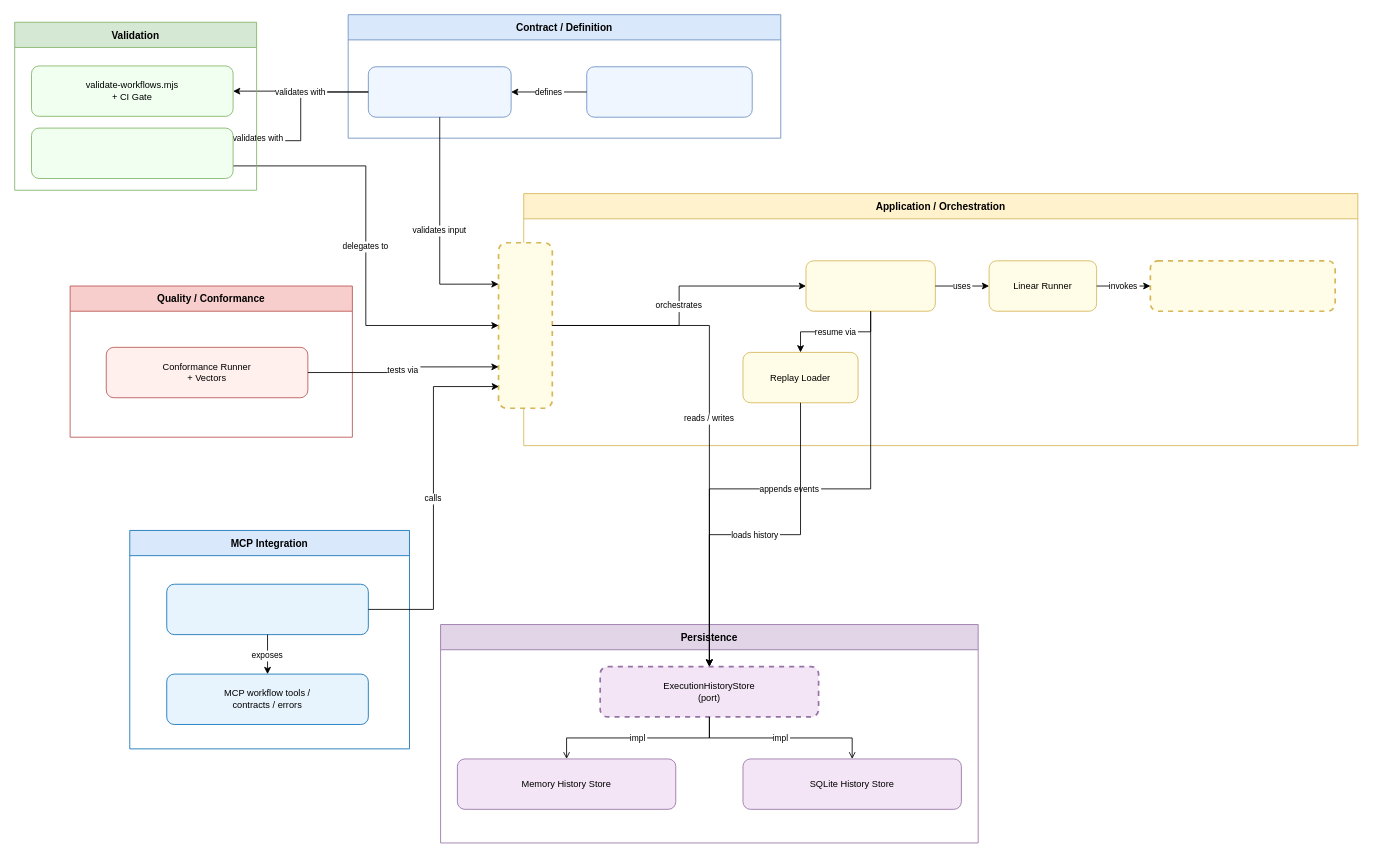
The diagram is 1373 pixels wide and 858 high, and some of its shapes have lost their labels. The centre of each missing label's shape, as x and y in pixels:
Activity Executor Boundary (stub default; host-mediated target): point (1242, 286)
MCP stdio server: point (267, 609)
POC JSON Schema: point (439, 91)
POC Runner (run / resume): point (870, 285)
RFC + POC Scope Docs: point (669, 91)
validate.mjs + CLI: point (132, 152)
Workflow Application Port: point (525, 325)
